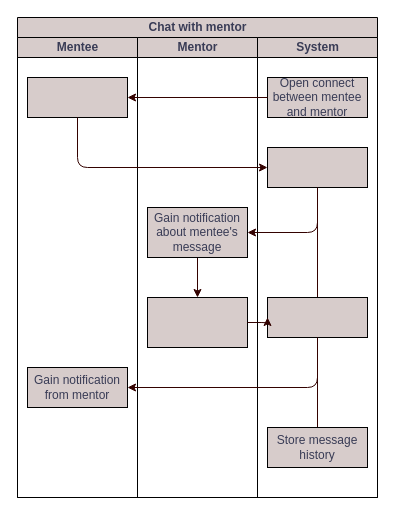
The diagram is 395 pixels wide and 515 high, and some of its shapes have lost their labels. The shapes that lost their labels are listed below. From the top down, each one's centre as x and y in pixels, then its label:
At [77,97]: "Send message to mentor".
At [317,167]: "Recieve and send back to mentor".
At [197,322]: "Send back again to mentee(if needed)".
At [317,317]: "Recieve and send back to mentee".
